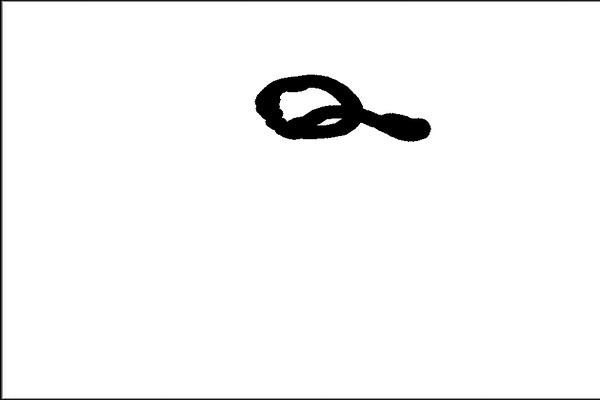Q: (249, 62, 425, 159)
